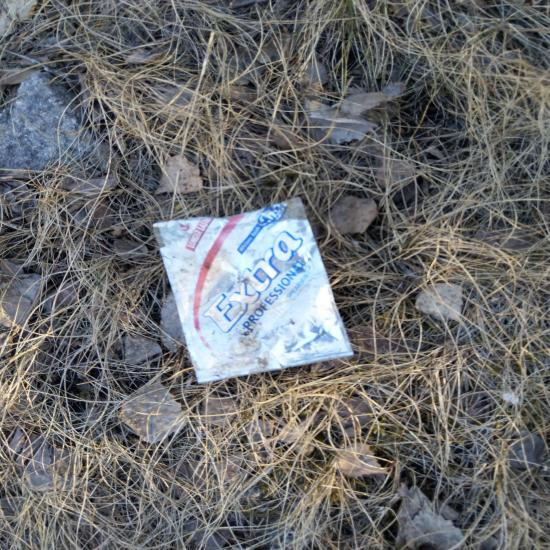Disposable plastic cup: (189, 176, 386, 380)
